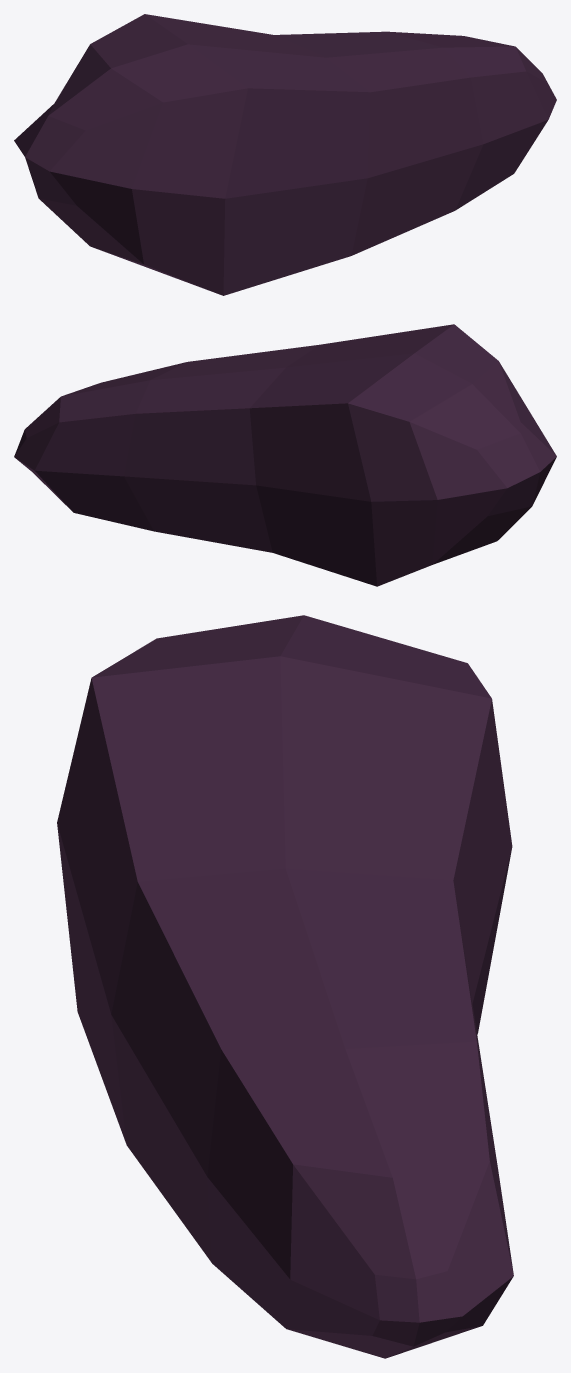
The model's file is eggplant.fbx.
3 views of the same model, one above another, from view 1: azimuth 30°, elevation 25°; view 2: azimuth 150°, elevation 25°; view 3: azimuth 270°, elevation 25° (orthographic). The views are drawn at different scales.
Visible parts, largest first — view 1: eggplant; view 2: eggplant; view 3: eggplant.
Part boxes in pixels (<box>): eggplant: <box>14,14,556,295</box>; eggplant: <box>14,324,556,586</box>; eggplant: <box>57,615,513,1358</box>.
Size of the model in its own units: 28.09 by 10.88 by 11.14.
Materials: 1 (1 with a texture image).
